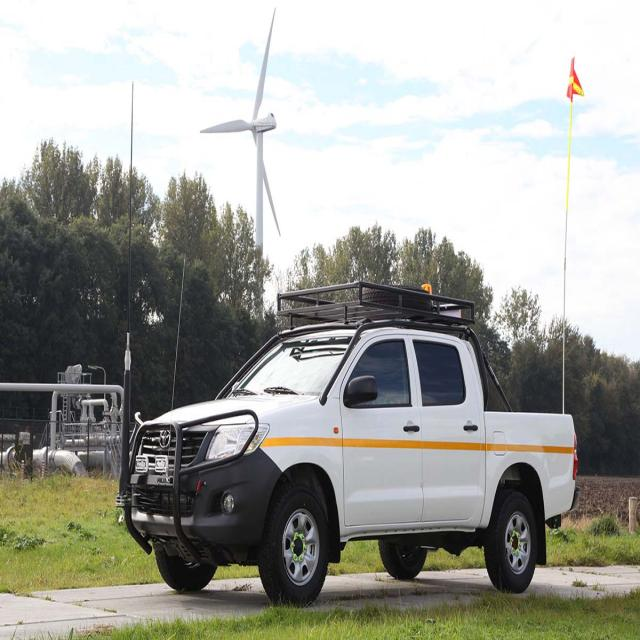light_vehicle: (110, 268, 584, 615)
